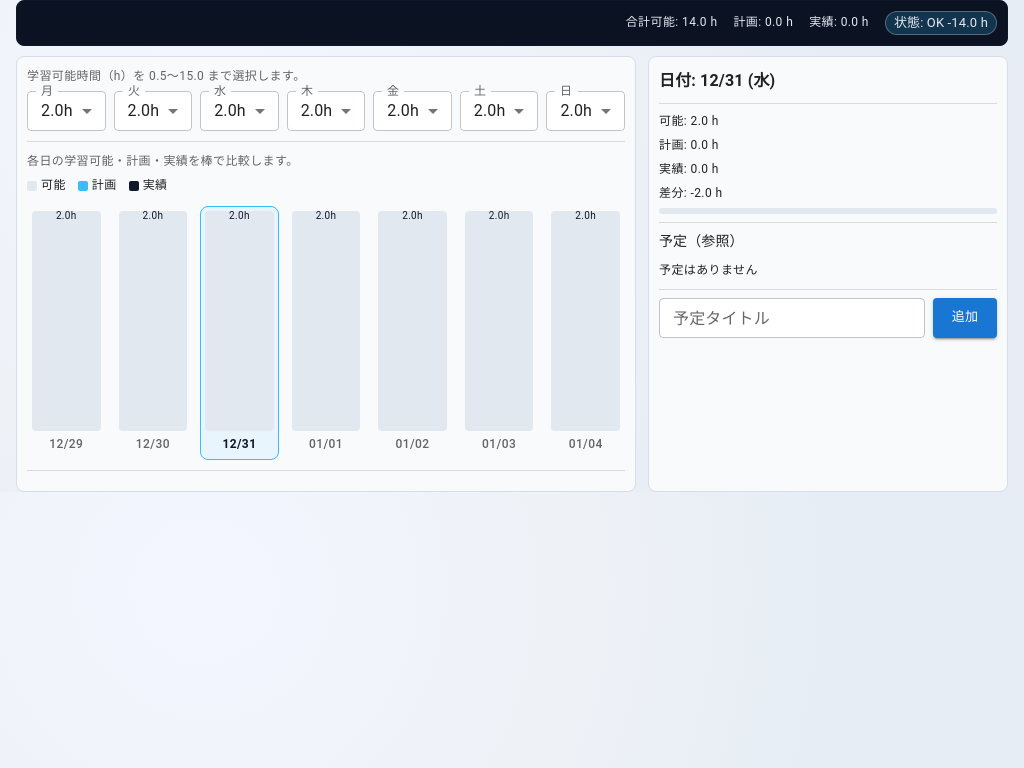
Test case: PlanView はオフライン時の予定追加エラーを表示する
The width and height of the screenshot is (1024, 768).
Type "塾の予定" into the field labelled "予定タイトル" at (792, 318), box [659, 298, 925, 338]
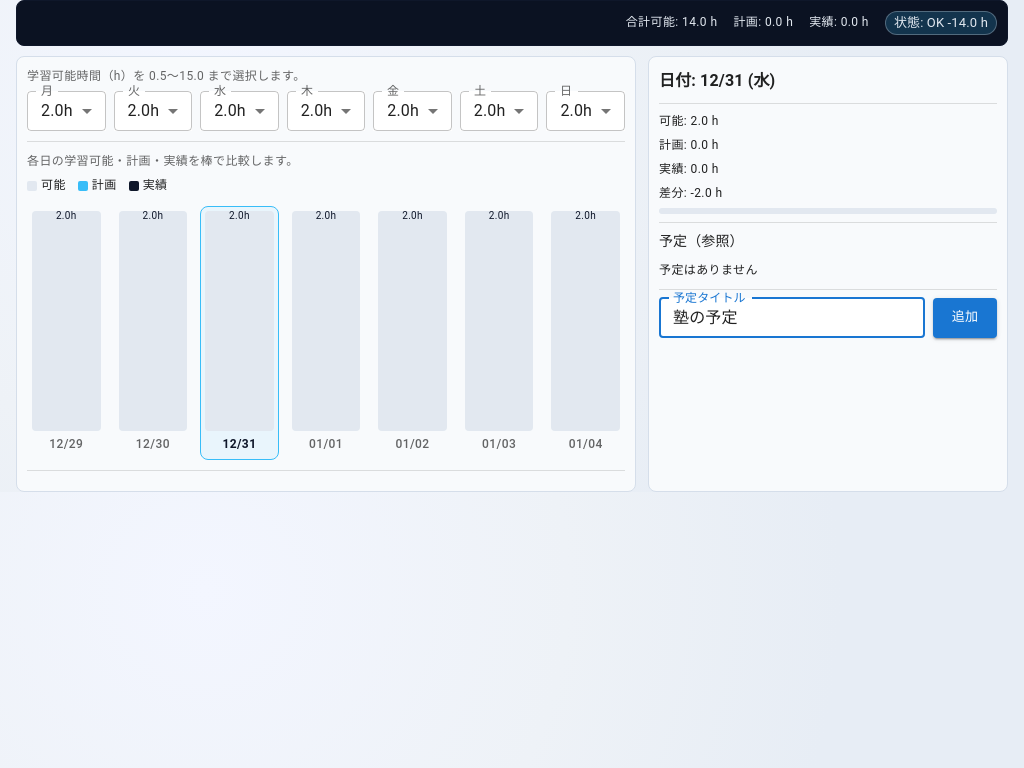
Click the button "追加" at (965, 318), box [933, 298, 997, 338]
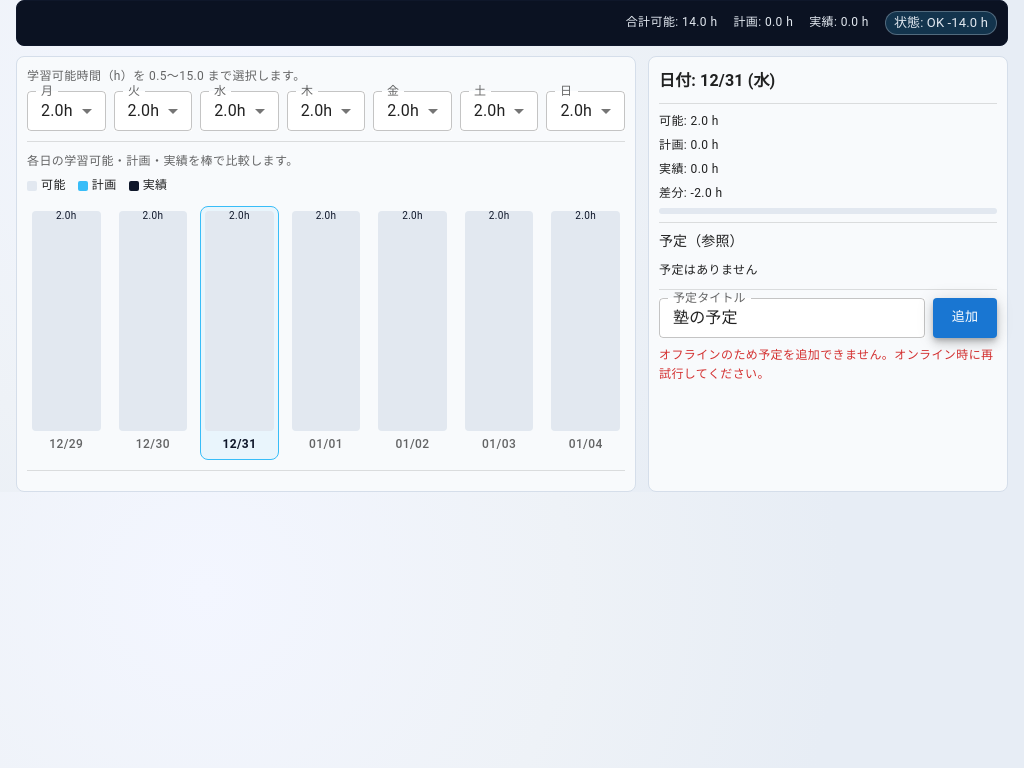
Now the text "オフラインのため予定を追加できません。オンライン時に再試行してください。" is shown, box [659, 346, 997, 385]
